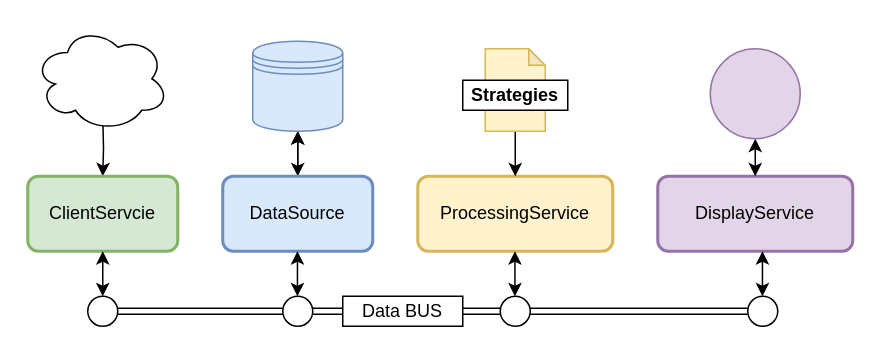
Image size: 879x363. Some labels were removed from this diagram. The shapes that lost their labels are listed below. From the top down, each one's box as (x1, y1, x2, y2) in pixels, then its label:
(32, 25, 169, 131): Broker's API
(251, 40, 343, 131): DataBase
(709, 47, 800, 139): UI
